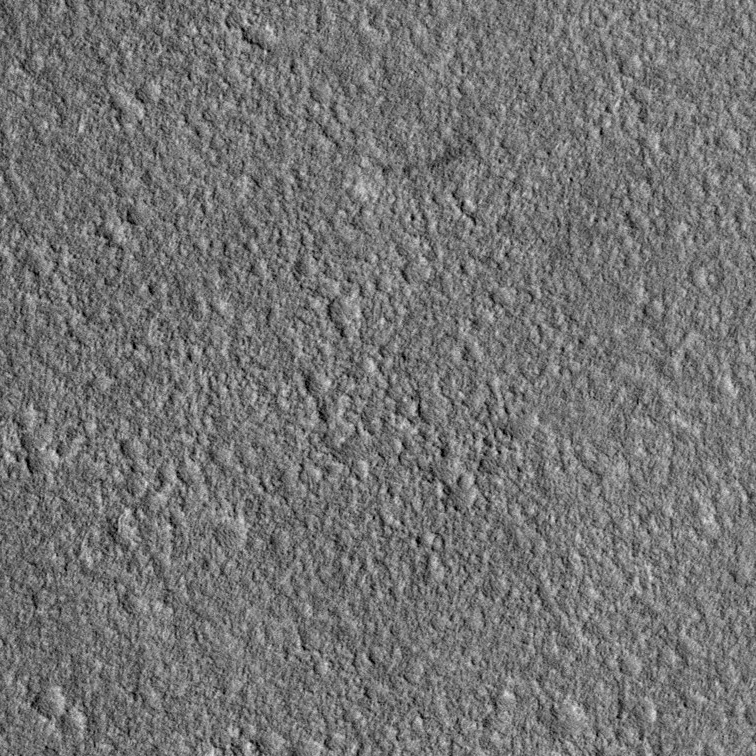dust_devil: (349, 134, 480, 206)
